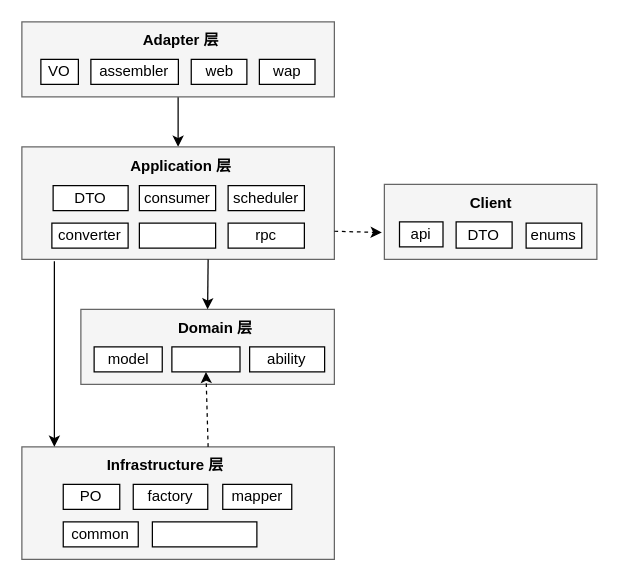
The diagram is 619 pixels wide and 581 high, and some of its shapes have lost their labels. The centre of each missing label's shape, as x and y in pixels:
executor: point (177, 235)
gateway: point (205, 359)
gatewayImpl: point (204, 534)
